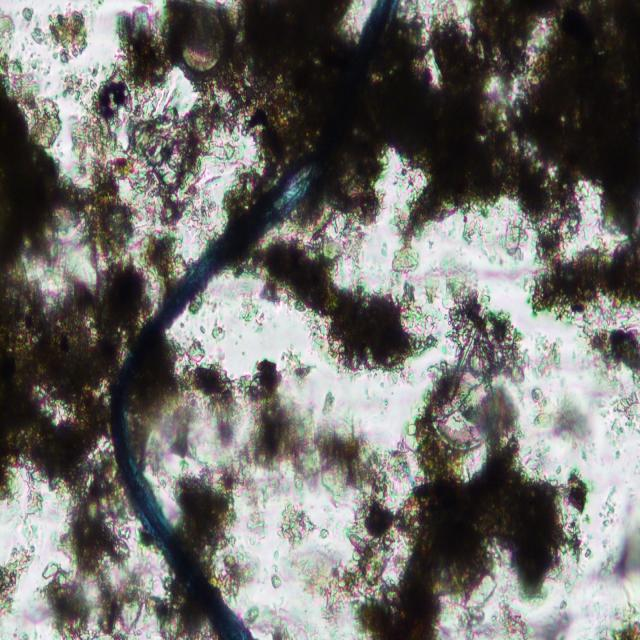Background material: (398, 0, 640, 238), (302, 456, 594, 636), (0, 56, 112, 504), (243, 252, 434, 376), (235, 353, 392, 503), (72, 9, 165, 166), (130, 98, 238, 224), (145, 333, 241, 468), (41, 490, 121, 638), (442, 273, 530, 386), (527, 235, 640, 317), (168, 466, 240, 566), (330, 135, 395, 232), (96, 256, 152, 350), (529, 386, 596, 448), (584, 315, 640, 381), (598, 507, 640, 587), (150, 574, 204, 636), (30, 12, 90, 62), (0, 544, 37, 620), (276, 496, 329, 548), (601, 386, 640, 450), (217, 545, 259, 596), (59, 59, 104, 104), (116, 578, 148, 636), (595, 603, 640, 639), (246, 606, 296, 638), (534, 338, 564, 380), (387, 244, 423, 276), (503, 214, 527, 258), (244, 506, 268, 544), (204, 321, 233, 345), (0, 11, 18, 45), (271, 548, 283, 593), (322, 391, 336, 415), (20, 4, 36, 24)
Cotton: (109, 0, 399, 638)
Diatom: (426, 362, 497, 452), (177, 4, 230, 77)
